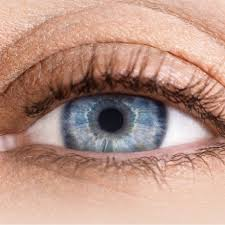pupil: (62, 94, 167, 154)
